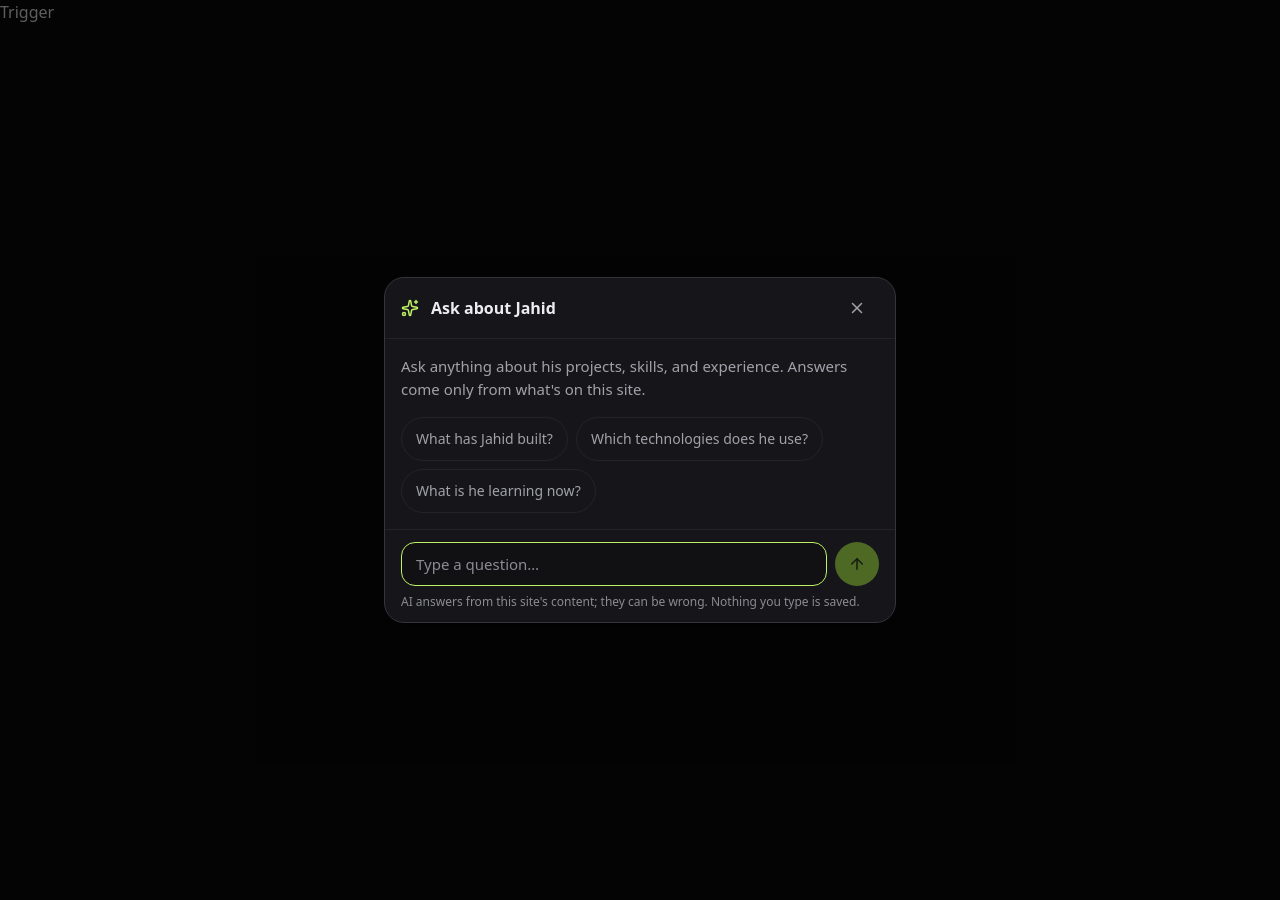
Test case: Ask about Jahid › asks the API and shows the answer with links to its pages
The width and height of the screenshot is (1280, 900).
In the field named "Your question": {"x": 614, "y": 564} [401, 542, 827, 586], type "Firebase?"
Then press Enter
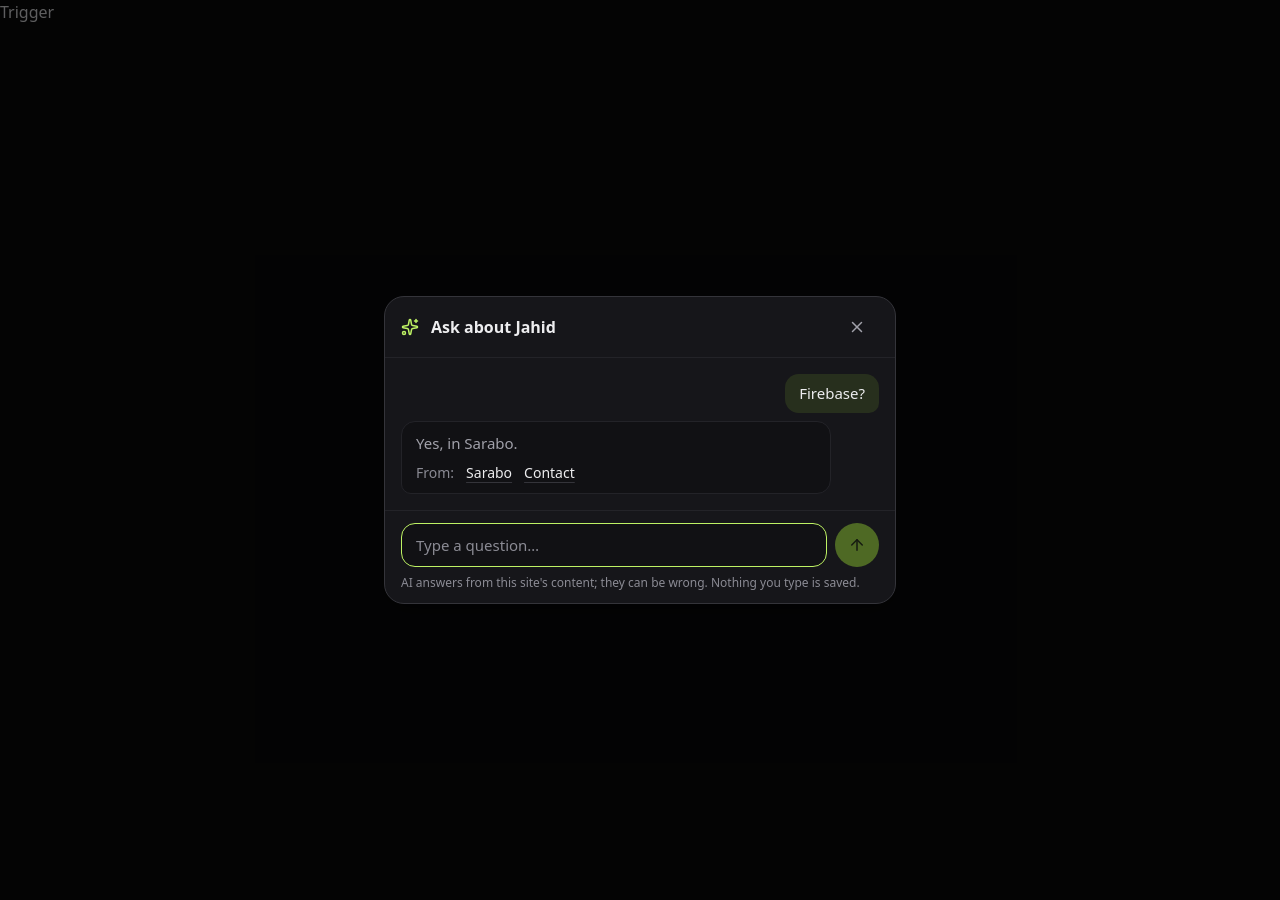
Expected: the field named "Your question" is empty, [401, 523, 827, 567]
Expected: the text "Yes, in Sarabo." is shown, [416, 433, 518, 453]
Expected: the text "Firebase?" is shown, [785, 374, 879, 413]
